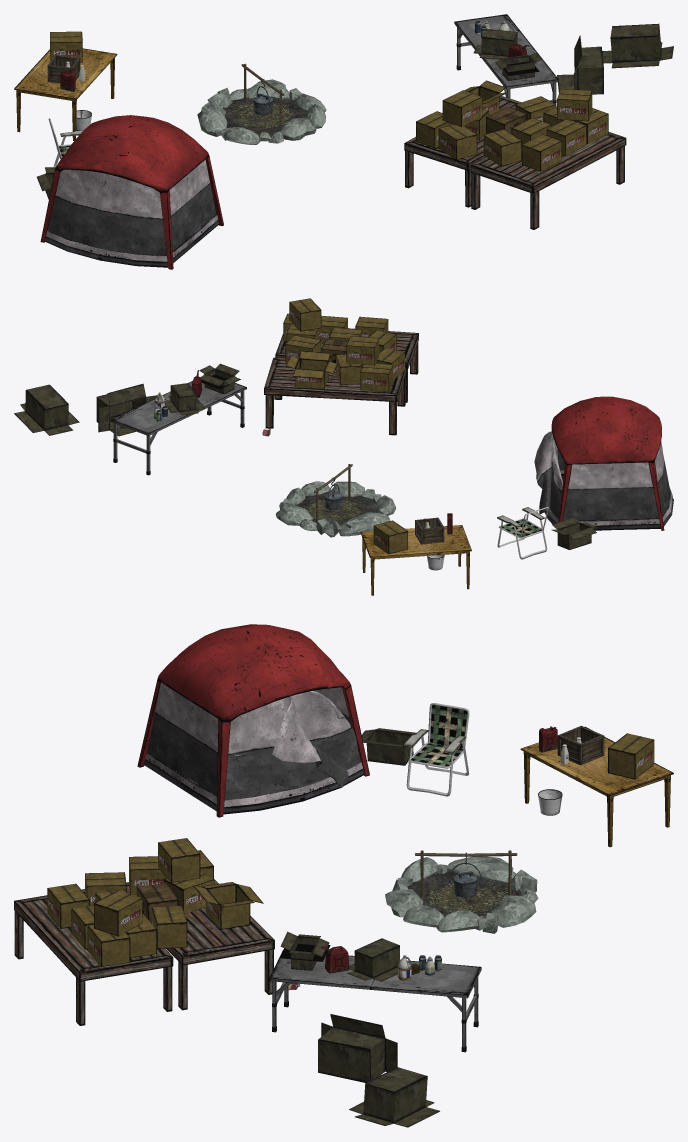
The model's file is camp.fbx.
The picture shows the model from 3 angles, top to bottom: view 1: azimuth 30°, elevation 25°; view 2: azimuth 150°, elevation 25°; view 3: azimuth 270°, elevation 25°; orthographic projection. The views are drawn at different scales.
Visible parts, largest first — view 1: FrontSide_6, FrontSide_13, FrontSide_9, FrontSide_71, FrontSide_30, FrontSide_3, FrontSide_76, FrontSide_20, FrontSide_60, FrontSide_42, FrontSide_22, FrontSide_56 (+1 smaller); view 2: FrontSide_6, FrontSide_13, FrontSide_9, FrontSide_71, FrontSide_30, FrontSide_3, FrontSide_20, FrontSide_76, FrontSide_42, FrontSide_60, FrontSide_56, FrontSide_36; view 3: FrontSide_13, FrontSide_6, FrontSide_9, FrontSide_71, FrontSide_30, FrontSide_3, FrontSide_20, FrontSide_76, FrontSide_60, FrontSide_42, FrontSide_63, FrontSide_56 (+3 smaller).
Part boxes in pixels (x1,y1,x2,y2): FrontSide_6: [50, 31, 608, 171]; FrontSide_13: [48, 159, 216, 255]; FrontSide_9: [40, 115, 223, 269]; FrontSide_71: [37, 23, 673, 199]; FrontSide_30: [404, 96, 626, 229]; FrontSide_3: [197, 79, 326, 144]; FrontSide_76: [14, 48, 117, 140]; FrontSide_20: [454, 14, 558, 103]; FrontSide_60: [45, 214, 219, 267]; FrontSide_42: [222, 97, 307, 136]; FrontSide_22: [486, 107, 527, 133]; FrontSide_56: [47, 55, 80, 83]; FrontSide_6: [283, 298, 407, 554]; FrontSide_13: [534, 431, 670, 520]; FrontSide_9: [551, 396, 664, 530]; FrontSide_71: [14, 363, 597, 549]; FrontSide_30: [264, 328, 418, 435]; FrontSide_3: [275, 481, 396, 537]; FrontSide_20: [110, 376, 246, 475]; FrontSide_76: [360, 525, 471, 595]; FrontSide_42: [295, 491, 379, 531]; FrontSide_60: [544, 470, 673, 530]; FrontSide_56: [415, 517, 444, 544]; FrontSide_36: [497, 507, 548, 559]; FrontSide_13: [147, 682, 360, 800]; FrontSide_6: [47, 733, 654, 966]; FrontSide_9: [137, 624, 369, 817]; FrontSide_71: [280, 728, 439, 1127]; FrontSide_30: [14, 880, 274, 1025]; FrontSide_3: [385, 856, 538, 933]; FrontSide_20: [269, 950, 481, 1052]; FrontSide_76: [520, 726, 673, 847]; FrontSide_60: [144, 752, 364, 814]; FrontSide_42: [407, 871, 521, 918]; FrontSide_63: [411, 705, 467, 766]; FrontSide_56: [557, 725, 604, 765].
Size of the model in its own units: 17.78 by 12.21 by 2.91.
Materials: 31 (31 with a texture image).
